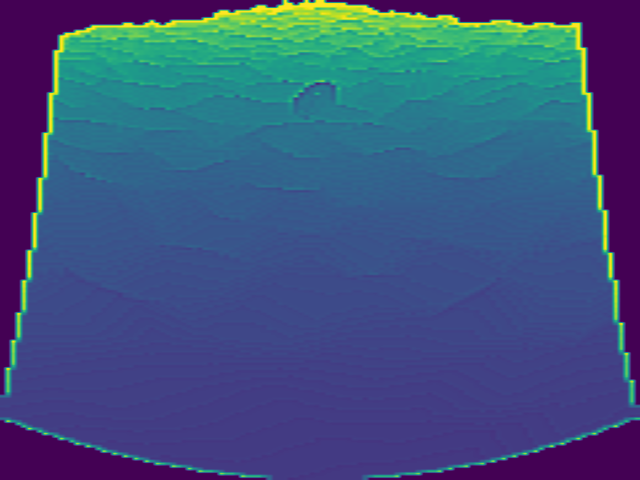car_0198: (290, 79, 338, 119)
